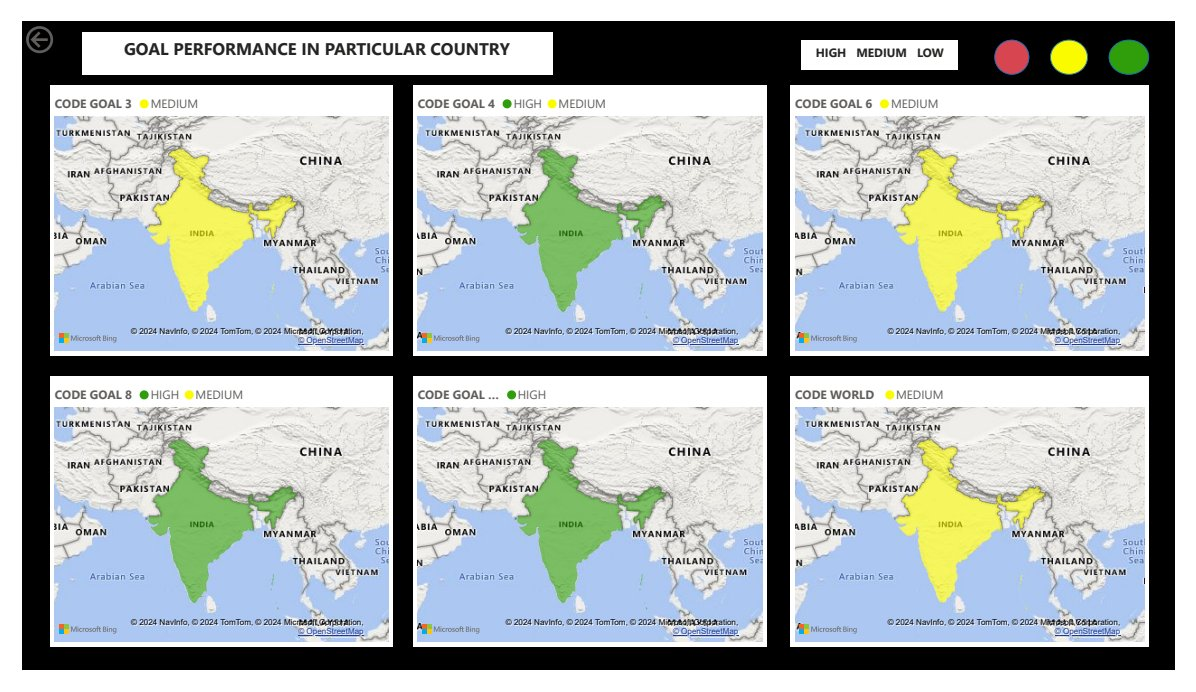

Layout of this report page (visuals, bound fields, positions):
{"tool":"powerbi","page":{"name":"OVERVIEW DETAILS","canvas":[1280,720],"ordinal":2},"visuals":[{"type":"actionButton","box":[0,0,100,40],"z":0},{"type":"filledMap","fields":{"Category":["RANKING out of 100.country"],"Series":["RANKING out of 100.CODE GOAL 3"]},"box":[31.8,71.2,380.1,299.8],"z":1000},{"type":"filledMap","fields":{"Series":["RANKING out of 100.CODE GOAL 8"],"Category":["RANKING out of 100.country"]},"box":[31.8,393.7,380.1,299.8],"z":2000},{"type":"filledMap","fields":{"Series":["RANKING out of 100.CODE GOAL 4"],"Category":["RANKING out of 100.country"]},"box":[434.6,71.2,393.7,299.8],"z":3000},{"type":"filledMap","fields":{"Series":["RANKING out of 100.CODE GOAL 13"],"Category":["RANKING out of 100.country"]},"box":[434.6,393.7,393.7,299.8],"z":4000},{"type":"filledMap","fields":{"Series":["RANKING out of 100.CODE GOAL 6"],"Category":["RANKING out of 100.country"]},"box":[854,71.2,398.2,299.8],"z":5000},{"type":"filledMap","fields":{"Series":["RANKING out of 100.CODE WORLD "],"Category":["RANKING out of 100.country"]},"box":[854,393.7,398.2,299.8],"z":6000},{"type":"textbox","box":[66.6,12.1,522.4,46.9],"z":7000},{"type":"shape","box":[1141.7,19.7,42.4,39.4],"z":8000},{"type":"shape","box":[1206.8,19.7,45.4,39.4],"z":9000},{"type":"shape","box":[1079.6,19.7,39.4,39.4],"z":10000},{"type":"textbox","box":[866.1,19.7,174.1,33.3],"z":11000}]}

Visuals, with their boxes in screenshot pixels (x1, y1, x2, y2), scaled from the page's 1280x720 canvas onto the 1196x692 screenshot:
actionButton: <bbox>0, 0, 93, 38</bbox>
filledMap - RANKING out of 100.country x RANKING out of 100.CODE GOAL 3: <bbox>30, 68, 385, 357</bbox>
filledMap - RANKING out of 100.CODE GOAL 8 x RANKING out of 100.country: <bbox>30, 378, 385, 667</bbox>
filledMap - RANKING out of 100.CODE GOAL 4 x RANKING out of 100.country: <bbox>406, 68, 774, 357</bbox>
filledMap - RANKING out of 100.CODE GOAL 13 x RANKING out of 100.country: <bbox>406, 378, 774, 667</bbox>
filledMap - RANKING out of 100.CODE GOAL 6 x RANKING out of 100.country: <bbox>798, 68, 1170, 357</bbox>
filledMap - RANKING out of 100.CODE WORLD  x RANKING out of 100.country: <bbox>798, 378, 1170, 667</bbox>
textbox: <bbox>62, 12, 550, 57</bbox>
shape: <bbox>1067, 19, 1106, 57</bbox>
shape: <bbox>1128, 19, 1170, 57</bbox>
shape: <bbox>1009, 19, 1046, 57</bbox>
textbox: <bbox>809, 19, 972, 51</bbox>
